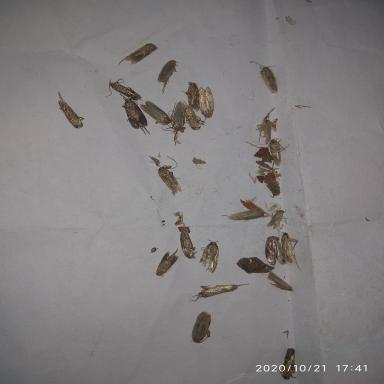pbw: (148, 153, 181, 195), (188, 282, 249, 302), (162, 102, 188, 145), (122, 95, 150, 134), (174, 212, 197, 259), (55, 90, 83, 128), (248, 61, 279, 93), (118, 43, 157, 66), (255, 107, 278, 144), (108, 77, 142, 102), (279, 232, 301, 269), (221, 205, 270, 221), (190, 310, 213, 344), (140, 100, 172, 124), (263, 235, 287, 267), (198, 238, 219, 274), (156, 60, 178, 93), (154, 249, 179, 277), (267, 137, 288, 168), (267, 269, 293, 292), (182, 103, 204, 130), (182, 80, 201, 111), (280, 348, 298, 380), (198, 85, 214, 118), (267, 206, 288, 230)
